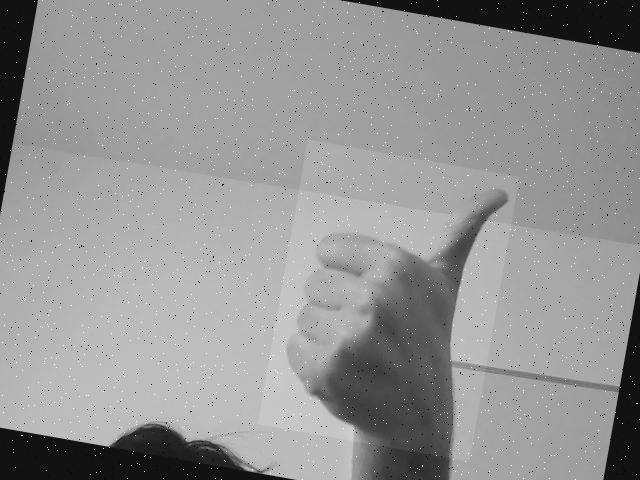good: (269, 175, 514, 440)
